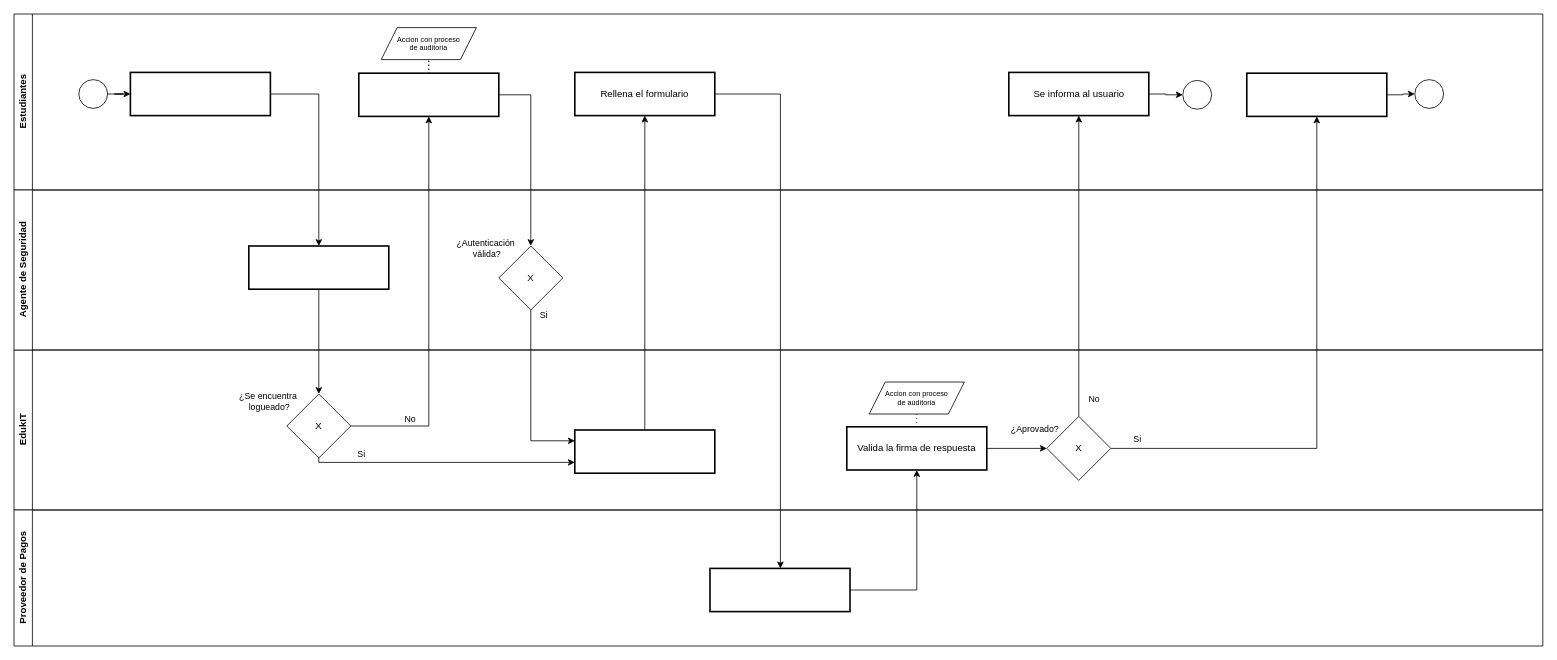
Image size: 1557x660. Some labels were removed from this diagram. The shapes that lost their labels are listed below. From the top down, each one's centre as x and y in pixels, then its label:
At point (200, 93): "Selecciona curso y hace clic en pagar".
At point (428, 94): "Ingresa credenciales y MFA".
At point (1316, 94): "Recibe confirmación y acceso al curso".
At point (318, 267): "Filtrar tráfico con WAF".
At point (644, 451): "Presenta formulario de pago con token único".
At point (779, 589): "Procesa la transacción".
